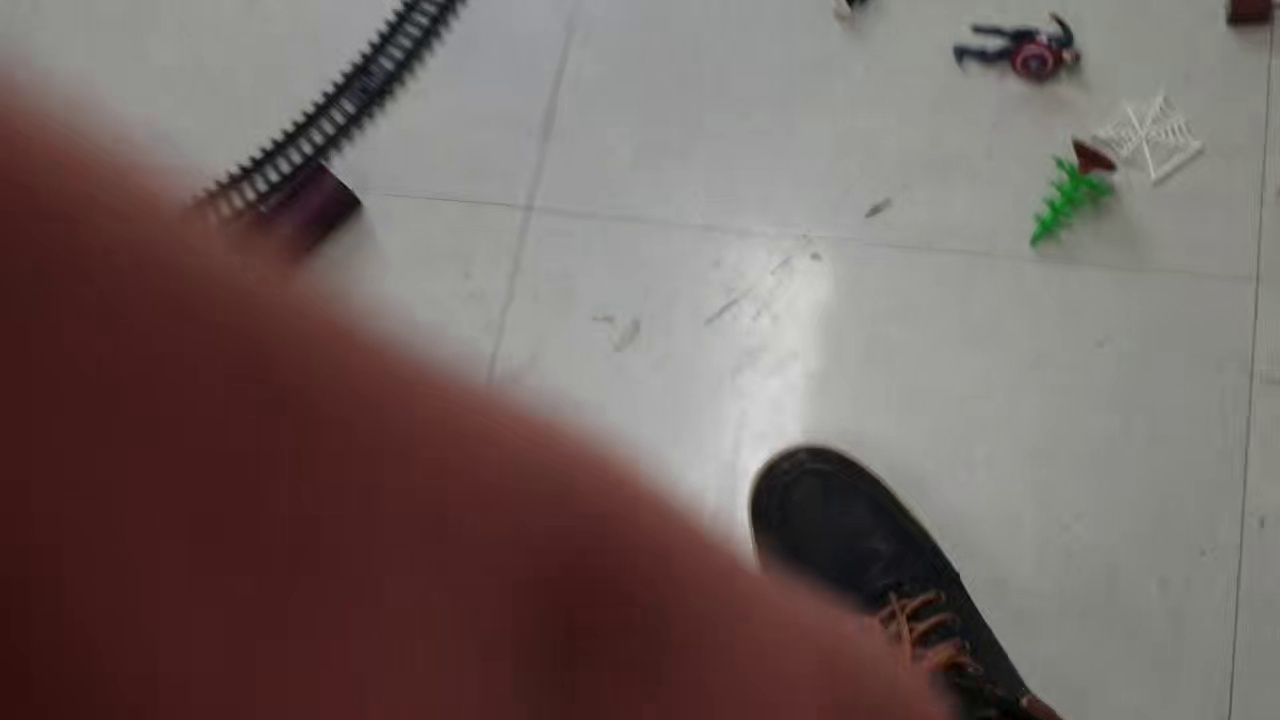people: (940, 2, 1086, 83)
tree: (1019, 133, 1120, 254)
web: (1079, 90, 1206, 190)
